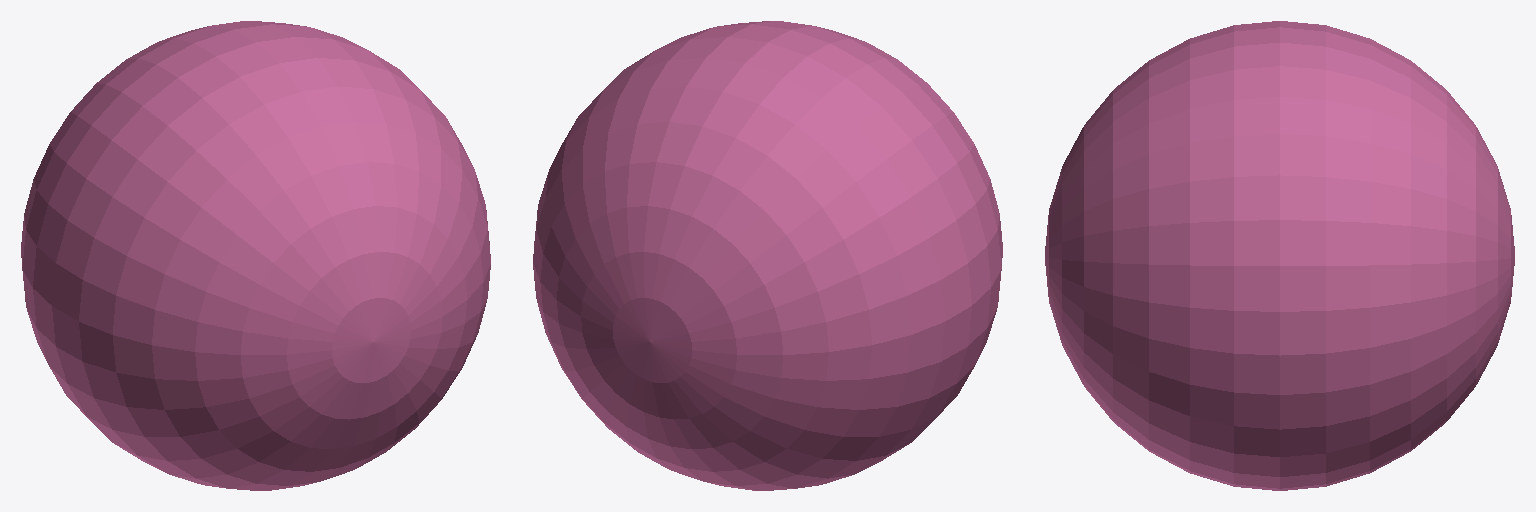
The robot description file, URDF, robot "robot":
<?xml version="1.0" ?>
<!-- =================================================================================== -->
<!-- |    This document was autogenerated by xacro from ./description/ur3e_single.urdf.xacro | -->
<!-- |    EDITING THIS FILE BY HAND IS NOT RECOMMENDED                                 | -->
<!-- =================================================================================== -->
<robot name="robot">
  <material name="collision_env_mesh">
    <color rgba="0.5019607843137255 0.5019607843137255 0.5019607843137255 1.0"/>
  </material>
  <!-- robot_common -->
  <link name="robot_common"/>
  <joint name="world_joint" type="fixed">
    <parent link="robot_common"/>
    <child link="base_link"/>
    <origin rpy="0.0 0 0.0" xyz="0.0 -0.15 0.0"/>
  </joint>
  <!--
    Base UR robot series xacro macro.

    NOTE: this is NOT a URDF. It cannot directly be loaded by consumers
    expecting a flattened '.urdf' file. See the top-level '.xacro' for that
    (but note: that .xacro must still be processed by the xacro command).

    For use in '.launch' files: use one of the 'load_urX.launch' convenience
    launch files.

    This file models the base kinematic chain of a UR robot, which then gets
    parameterised by various configuration files to convert it into a UR3(e),
    UR5(e), UR10(e) or UR16e.

    NOTE: the default kinematic parameters (ie: link lengths, frame locations,
    offets, etc) do not correspond to any particular robot. They are defaults
    only. There WILL be non-zero offsets between the Forward Kinematics results
    in TF (ie: robot_state_publisher) and the values reported by the Teach
    Pendant.

    For accurate (and robot-specific) transforms, the 'kinematics_parameters_file'
    parameter MUST point to a .yaml file containing the appropriate values for
    the targetted robot.

    If using the UniversalRobots/Universal_Robots_ROS_Driver, follow the steps
    described in the readme of that repository to extract the kinematic
    calibration from the controller and generate the required .yaml file.

    Main author of the migration to yaml configs: [author].

    Contributors to previous versions (in no particular order):

     - [author]
     - [author]
     - [author]
     - [author]
     - [author]
     - [author]
     - [author]
     - [author]
     - [author]
     - [author]
     - [author]
     - [author]
     - [author]
     - [author]
     - [author]
     - [author]
     - [author]
  -->
  <!--
    NOTE: the macro defined in this file is NOT part of the public API of this
          package. Users CANNOT rely on this file being available, or stored in
          this location. Nor can they rely on the existence of the macro.
  -->
  <transmission name="shoulder_pan_trans">
    <type>transmission_interface/SimpleTransmission</type>
    <joint name="shoulder_pan_joint">
      <hardwareInterface>hardware_interface/PositionJointInterface</hardwareInterface>
    </joint>
    <actuator name="shoulder_pan_motor">
      <mechanicalReduction>1</mechanicalReduction>
    </actuator>
  </transmission>
  <transmission name="shoulder_lift_trans">
    <type>transmission_interface/SimpleTransmission</type>
    <joint name="shoulder_lift_joint">
      <hardwareInterface>hardware_interface/PositionJointInterface</hardwareInterface>
    </joint>
    <actuator name="shoulder_lift_motor">
      <mechanicalReduction>1</mechanicalReduction>
    </actuator>
  </transmission>
  <transmission name="elbow_trans">
    <type>transmission_interface/SimpleTransmission</type>
    <joint name="elbow_joint">
      <hardwareInterface>hardware_interface/PositionJointInterface</hardwareInterface>
    </joint>
    <actuator name="elbow_motor">
      <mechanicalReduction>1</mechanicalReduction>
    </actuator>
  </transmission>
  <transmission name="wrist_1_trans">
    <type>transmission_interface/SimpleTransmission</type>
    <joint name="wrist_1_joint">
      <hardwareInterface>hardware_interface/PositionJointInterface</hardwareInterface>
    </joint>
    <actuator name="wrist_1_motor">
      <mechanicalReduction>1</mechanicalReduction>
    </actuator>
  </transmission>
  <transmission name="wrist_2_trans">
    <type>transmission_interface/SimpleTransmission</type>
    <joint name="wrist_2_joint">
      <hardwareInterface>hardware_interface/PositionJointInterface</hardwareInterface>
    </joint>
    <actuator name="wrist_2_motor">
      <mechanicalReduction>1</mechanicalReduction>
    </actuator>
  </transmission>
  <transmission name="wrist_3_trans">
    <type>transmission_interface/SimpleTransmission</type>
    <joint name="wrist_3_joint">
      <hardwareInterface>hardware_interface/PositionJointInterface</hardwareInterface>
    </joint>
    <actuator name="wrist_3_motor">
      <mechanicalReduction>1</mechanicalReduction>
    </actuator>
  </transmission>
  <!-- links: main serial chain -->
  <link name="base_link"/>
  <link name="base_link_inertia">
    <collision>
      <origin rpy="0 0 3.141592653589793" xyz="0 0 0"/>
      <geometry>
        <mesh filename="./robot/collision/base.stl"/>
      </geometry>
      <material name="LightGrey">
        <color rgba="0.7 0.7 0.7 1.0"/>
      </material>
    </collision>
    <inertial>
            <mass value="0"/>
            <origin rpy="0 0 0" xyz="0 0 0"/>
            <inertia ixx="0" ixy="0.0" ixz="0.0" iyy="0" iyz="0" izz="0"/>
        </inertial>
  </link>
  <link name="shoulder_link">
    <collision>
      <origin rpy="0 0 3.141592653589793" xyz="0 0 0"/>
      <geometry>
        <mesh filename="./robot/collision/shoulder.stl"/>
      </geometry>
      <material name="LightGrey">
        <color rgba="0.7 0.7 0.7 1.0"/>
      </material>
    </collision>
    <inertial>
            <mass value="0"/>
            <origin rpy="0 0 0" xyz="0 0 0"/>
            <inertia ixx="0" ixy="0.0" ixz="0.0" iyy="0" iyz="0" izz="0"/>
        </inertial>
  </link>
  <link name="upper_arm_link">
    <collision>
      <origin rpy="1.5707963267948966 0 -1.5707963267948966" xyz="0 0 0.12"/>
      <geometry>
        <mesh filename="./robot/collision/upperarm.stl"/>
      </geometry>
      <material name="LightGrey">
        <color rgba="0.7 0.7 0.7 1.0"/>
      </material>
    </collision>
    <inertial>
            <mass value="0"/>
            <origin rpy="0 0 0" xyz="0 0 0"/>
            <inertia ixx="0" ixy="0.0" ixz="0.0" iyy="0" iyz="0" izz="0"/>
        </inertial>
  </link>
  <link name="forearm_link">
    <collision>
      <origin rpy="1.5707963267948966 0 -1.5707963267948966" xyz="0 0 0.027"/>
      <geometry>
        <mesh filename="./robot/collision/forearm.stl"/>
      </geometry>
      <material name="LightGrey">
        <color rgba="0.7 0.7 0.7 1.0"/>
      </material>
    </collision>
    <inertial>
            <mass value="0"/>
            <origin rpy="0 0 0" xyz="0 0 0"/>
            <inertia ixx="0" ixy="0.0" ixz="0.0" iyy="0" iyz="0" izz="0"/>
        </inertial>
  </link>
  <link name="wrist_1_link">
    <collision>
      <!-- TODO: Move this to a parameter -->
      <origin rpy="1.5707963267948966 0 0" xyz="0 0 -0.104"/>
      <geometry>
        <mesh filename="./robot/collision/wrist1.stl"/>
      </geometry>
      <material name="LightGrey">
        <color rgba="0.7 0.7 0.7 1.0"/>
      </material>
    </collision>
    <inertial>
            <mass value="0"/>
            <origin rpy="0 0 0" xyz="0 0 0"/>
            <inertia ixx="0" ixy="0.0" ixz="0.0" iyy="0" iyz="0" izz="0"/>
        </inertial>
  </link>
  <link name="wrist_2_link">
    <collision>
      <origin rpy="0 0 0" xyz="0 0 -0.08535"/>
      <geometry>
        <mesh filename="./robot/collision/wrist2.stl"/>
      </geometry>
      <material name="LightGrey">
        <color rgba="0.7 0.7 0.7 1.0"/>
      </material>
    </collision>
    <inertial>
            <mass value="0"/>
            <origin rpy="0 0 0" xyz="0 0 0"/>
            <inertia ixx="0" ixy="0.0" ixz="0.0" iyy="0" iyz="0" izz="0"/>
        </inertial>
  </link>
  <link name="wrist_3_link">
    <collision>
      <origin rpy="1.5707963267948966 0 0" xyz="0 0 -0.0921"/>
      <geometry>
        <mesh filename="./robot/collision/wrist3.stl"/>
      </geometry>
      <material name="LightGrey">
        <color rgba="0.7 0.7 0.7 1.0"/>
      </material>
    </collision>
    <inertial>
            <mass value="0"/>
            <origin rpy="0 0 0" xyz="0 0 0"/>
            <inertia ixx="0" ixy="0.0" ixz="0.0" iyy="0" iyz="0" izz="0"/>
        </inertial>
  </link>
  <!-- joints: main serial chain -->
  <joint name="base_link-base_link_inertia" type="fixed">
    <parent link="base_link"/>
    <child link="base_link_inertia"/>
    <!-- 'base_link' is REP-103 aligned (so X+ forward), while the internal
           frames of the robot/controller have X+ pointing backwards.
           Use the joint between 'base_link' and 'base_link_inertia' (a dummy
           link/frame) to introduce the necessary rotation over Z (of pi rad).
      -->
    <origin rpy="0 0 3.141592653589793" xyz="0 0 0"/>
  </joint>
  <joint name="shoulder_pan_joint" type="revolute">
    <parent link="base_link_inertia"/>
    <child link="shoulder_link"/>
    <origin rpy="0 0 0" xyz="0 0 0.15185"/>
    <axis xyz="0 0 1"/>
    <limit effort="56.0" lower="-6.283185307179586" upper="6.283185307179586" velocity="3.141592653589793"/>
    <dynamics damping="0" friction="0"/>
  </joint>
  <joint name="shoulder_lift_joint" type="revolute">
    <parent link="shoulder_link"/>
    <child link="upper_arm_link"/>
    <origin rpy="1.570796327 0 0" xyz="0 0 0"/>
    <axis xyz="0 0 1"/>
    <limit effort="56.0" lower="-6.283185307179586" upper="6.283185307179586" velocity="3.141592653589793"/>
    <dynamics damping="0" friction="0"/>
  </joint>
  <joint name="elbow_joint" type="revolute">
    <parent link="upper_arm_link"/>
    <child link="forearm_link"/>
    <origin rpy="0 0 0" xyz="-0.24355 0 0"/>
    <axis xyz="0 0 1"/>
    <limit effort="28.0" lower="-3.141592653589793" upper="3.141592653589793" velocity="3.141592653589793"/>
    <dynamics damping="0" friction="0"/>
  </joint>
  <joint name="wrist_1_joint" type="revolute">
    <parent link="forearm_link"/>
    <child link="wrist_1_link"/>
    <origin rpy="0 0 0" xyz="-0.2132 0 0.13105"/>
    <axis xyz="0 0 1"/>
    <limit effort="12.0" lower="-6.283185307179586" upper="6.283185307179586" velocity="6.283185307179586"/>
    <dynamics damping="0" friction="0"/>
  </joint>
  <joint name="wrist_2_joint" type="revolute">
    <parent link="wrist_1_link"/>
    <child link="wrist_2_link"/>
    <origin rpy="1.570796327 0 0" xyz="0 -0.08535 -1.750557762378351e-11"/>
    <axis xyz="0 0 1"/>
    <limit effort="12.0" lower="-6.283185307179586" upper="6.283185307179586" velocity="6.283185307179586"/>
    <dynamics damping="0" friction="0"/>
  </joint>
  <joint name="wrist_3_joint" type="revolute">
    <parent link="wrist_2_link"/>
    <child link="wrist_3_link"/>
    <origin rpy="1.570796326589793 3.141592653589793 3.141592653589793" xyz="0 0.0921 -1.8890025766262e-11"/>
    <axis xyz="0 0 1"/>
    <limit effort="12.0" lower="-6.283185307179586" upper="6.283185307179586" velocity="6.283185307179586"/>
    <dynamics damping="0" friction="0"/>
  </joint>
  <!-- ROS-Industrial 'base' frame: base_link to UR 'Base' Coordinates transform -->
  <link name="base"/>
  <joint name="base_link-base_fixed_joint" type="fixed">
    <!-- Note the rotation over Z of pi radians: as base_link is REP-103
           aligned (ie: has X+ forward, Y+ left and Z+ up), this is needed
           to correctly align 'base' with the 'Base' coordinate system of
           the UR controller.
      -->
    <origin rpy="0 0 3.141592653589793" xyz="0 0 0"/>
    <parent link="base_link"/>
    <child link="base"/>
  </joint>
  <!-- ROS-Industrial 'flange' frame: attachment point for EEF models -->
  <link name="flange"/>
  <joint name="wrist_3-flange" type="fixed">
    <parent link="wrist_3_link"/>
    <child link="flange"/>
    <origin rpy="0 -1.5707963267948966 -1.5707963267948966" xyz="0 0 0"/>
  </joint>
  <!-- ROS-Industrial 'tool0' frame: all-zeros tool frame -->
  <link name="tool0"/>
  <joint name="flange-tool0" type="fixed">
    <!-- default toolframe: X+ left, Y+ up, Z+ front -->
    <origin rpy="1.5707963267948966 0 1.5707963267948966" xyz="0 0 0"/>
    <parent link="flange"/>
    <child link="tool0"/>
  </joint>
  <joint name="robotiq_85_base_joint" type="fixed">
    <parent link="tool0"/>
    <child link="robotiq_85_base_link"/>
    <origin rpy="1.570795 -1.570795 0" xyz="0 0 0"/>
  </joint>
  <link name="robotiq_85_base_link">
    <collision>
      <geometry>
        <mesh filename="./robot/collision/robotiq_85_base_link.stl"/>
      </geometry>
    </collision>
    <inertial>
            <mass value="0"/>
            <origin rpy="0 0 0" xyz="0 0 0"/>
            <inertia ixx="0" ixy="0.0" ixz="0.0" iyy="0" iyz="0" izz="0"/>
        </inertial>
  </link>
  <joint name="robotiq_85_left_knuckle_joint" type="revolute">
    <parent link="robotiq_85_base_link"/>
    <child link="robotiq_85_left_knuckle_link"/>
    <axis xyz="0 0 1"/>
    <origin rpy="3.14159 0.0 0.0" xyz="0.05490451627 0.03060114443 0.0"/>
    <limit effort="1000" lower="0.0" upper="0.804" velocity="2.0"/>
  </joint>
  <joint name="robotiq_85_right_knuckle_joint" type="continuous">
    <parent link="robotiq_85_base_link"/>
    <child link="robotiq_85_right_knuckle_link"/>
    <axis xyz="0 0 1"/>
    <origin rpy="0.0 0.0 0.0" xyz="0.05490451627 -0.03060114443 0.0"/>
    <limit effort="1000" lower="-3.14" upper="3.14" velocity="100.0"/>
    <mimic joint="robotiq_85_left_knuckle_joint"/>
  </joint>
  <link name="robotiq_85_left_knuckle_link">
    <collision>
      <geometry>
        <mesh filename="./robot/collision/robotiq_85_knuckle_link.stl"/>
      </geometry>
    </collision>
    <inertial>
            <mass value="0"/>
            <origin rpy="0 0 0" xyz="0 0 0"/>
            <inertia ixx="0" ixy="0.0" ixz="0.0" iyy="0" iyz="0" izz="0"/>
        </inertial>
  </link>
  <link name="robotiq_85_right_knuckle_link">
    <collision>
      <geometry>
        <mesh filename="./robot/collision/robotiq_85_knuckle_link.stl"/>
      </geometry>
    </collision>
    <inertial>
            <mass value="0"/>
            <origin rpy="0 0 0" xyz="0 0 0"/>
            <inertia ixx="0" ixy="0.0" ixz="0.0" iyy="0" iyz="0" izz="0"/>
        </inertial>
  </link>
  <joint name="robotiq_85_left_finger_joint" type="continuous">
    <parent link="robotiq_85_left_knuckle_link"/>
    <child link="robotiq_85_left_finger_link"/>
    <origin rpy="0 0 0" xyz="-0.00408552455 -0.03148604435 0.0"/>
  </joint>
  <joint name="robotiq_85_right_finger_joint" type="continuous">
    <parent link="robotiq_85_right_knuckle_link"/>
    <child link="robotiq_85_right_finger_link"/>
    <origin rpy="0 0 0" xyz="-0.00408552455 -0.03148604435 0.0"/>
  </joint>
  <link name="robotiq_85_left_finger_link">
    <collision>
      <geometry>
        <mesh filename="./robot/collision/robotiq_85_finger_link.stl"/>
      </geometry>
    </collision>
    <inertial>
            <mass value="0"/>
            <origin rpy="0 0 0" xyz="0 0 0"/>
            <inertia ixx="0" ixy="0.0" ixz="0.0" iyy="0" iyz="0" izz="0"/>
        </inertial>
  </link>
  <link name="robotiq_85_right_finger_link">
    <collision>
      <geometry>
        <mesh filename="./robot/collision/robotiq_85_finger_link.stl"/>
      </geometry>
    </collision>
    <inertial>
            <mass value="0"/>
            <origin rpy="0 0 0" xyz="0 0 0"/>
            <inertia ixx="0" ixy="0.0" ixz="0.0" iyy="0" iyz="0" izz="0"/>
        </inertial>
  </link>
  <joint name="robotiq_85_left_inner_knuckle_joint" type="continuous">
    <parent link="robotiq_85_base_link"/>
    <child link="robotiq_85_left_inner_knuckle_link"/>
    <axis xyz="0 0 1"/>
    <origin rpy="3.14159 0.0 0.0" xyz="0.06142 0.0127 0"/>
    <limit effort="0.1" lower="-3.14" upper="3.14" velocity="100.0"/>
    <mimic joint="robotiq_85_left_knuckle_joint" offset="0"/>
  </joint>
  <joint name="robotiq_85_right_inner_knuckle_joint" type="continuous">
    <parent link="robotiq_85_base_link"/>
    <child link="robotiq_85_right_inner_knuckle_link"/>
    <axis xyz="0 0 1"/>
    <origin rpy="0 0 0" xyz="0.06142 -0.0127 0"/>
    <limit effort="0.1" lower="-3.14" upper="3.14" velocity="100.0"/>
    <mimic joint="robotiq_85_left_knuckle_joint" offset="0"/>
  </joint>
  <link name="robotiq_85_left_inner_knuckle_link">
    <collision>
      <geometry>
        <mesh filename="./robot/collision/robotiq_85_inner_knuckle_link.stl"/>
      </geometry>
    </collision>
    <inertial>
            <mass value="0"/>
            <origin rpy="0 0 0" xyz="0 0 0"/>
            <inertia ixx="0" ixy="0.0" ixz="0.0" iyy="0" iyz="0" izz="0"/>
        </inertial>
  </link>
  <link name="robotiq_85_right_inner_knuckle_link">
    <collision>
      <geometry>
        <mesh filename="./robot/collision/robotiq_85_inner_knuckle_link.stl"/>
      </geometry>
    </collision>
    <inertial>
            <mass value="0"/>
            <origin rpy="0 0 0" xyz="0 0 0"/>
            <inertia ixx="0" ixy="0.0" ixz="0.0" iyy="0" iyz="0" izz="0"/>
        </inertial>
  </link>
  <joint name="robotiq_85_left_finger_tip_joint" type="continuous">
    <parent link="robotiq_85_left_inner_knuckle_link"/>
    <child link="robotiq_85_left_finger_tip_link"/>
    <axis xyz="0 0 1"/>
    <origin rpy="0.0 0.0 0.0" xyz="0.04303959807 -0.03759940821 0.0"/>
    <limit effort="0.1" lower="-3.14" upper="3.14" velocity="100.0"/>
    <mimic joint="robotiq_85_left_knuckle_joint" multiplier="-1"/>
  </joint>
  <joint name="robotiq_85_right_finger_tip_joint" type="continuous">
    <parent link="robotiq_85_right_inner_knuckle_link"/>
    <child link="robotiq_85_right_finger_tip_link"/>
    <axis xyz="0 0 1"/>
    <origin rpy="0.0 0.0 0.0" xyz="0.04303959807 -0.03759940821  0.0"/>
    <limit effort="0.1" lower="-3.14" upper="3.14" velocity="100.0"/>
    <mimic joint="robotiq_85_left_knuckle_joint" multiplier="-1"/>
  </joint>
  <link name="robotiq_85_left_finger_tip_link">
    <collision>
      <geometry>
        <mesh filename="./robot/collision/robotiq_85_finger_tip_link.stl"/>
      </geometry>
    </collision>
    <inertial>
            <mass value="0"/>
            <origin rpy="0 0 0" xyz="0 0 0"/>
            <inertia ixx="0" ixy="0.0" ixz="0.0" iyy="0" iyz="0" izz="0"/>
        </inertial>
  </link>
  <link name="robotiq_85_right_finger_tip_link">
    <collision>
      <geometry>
        <mesh filename="./robot/collision/robotiq_85_finger_tip_link.stl"/>
      </geometry>
    </collision>
    <inertial>
            <mass value="0"/>
            <origin rpy="0 0 0" xyz="0 0 0"/>
            <inertia ixx="0" ixy="0.0" ixz="0.0" iyy="0" iyz="0" izz="0"/>
        </inertial>
  </link>
  <transmission name="robotiq_85_left_knuckle_trans">
    <type>transmission_interface/SimpleTransmission</type>
    <joint name="robotiq_85_left_knuckle_joint">
      <hardwareInterface>PositionJointInterface</hardwareInterface>
    </joint>
    <actuator name="robotiq_85_left_knuckle_motor">
      <mechanicalReduction>1</mechanicalReduction>
      <hardwareInterface>PositionJointInterface</hardwareInterface>
    </actuator>
  </transmission>
  <gazebo>
    <!-- loading plugin: mimic joints works in gazebo now -->
    <plugin filename="libroboticsgroup_gazebo_mimic_joint_plugin.so" name="mimic_robotiq_85_1">
      <joint>robotiq_85_left_knuckle_joint</joint>
      <mimicJoint>robotiq_85_right_knuckle_joint</mimicJoint>
      <!--multiplier>1.0</multiplier>
                <offset>0.0</offset-->
    </plugin>
    <plugin filename="libroboticsgroup_gazebo_mimic_joint_plugin.so" name="mimic_robotiq_85_2">
      <joint>robotiq_85_left_knuckle_joint</joint>
      <mimicJoint>robotiq_85_left_inner_knuckle_joint</mimicJoint>
      <!--multiplier>1.0</multiplier>
                <offset>0.0</offset-->
    </plugin>
    <plugin filename="libroboticsgroup_gazebo_mimic_joint_plugin.so" name="mimic_robotiq_85_3">
      <joint>robotiq_85_left_knuckle_joint</joint>
      <mimicJoint>robotiq_85_right_inner_knuckle_joint</mimicJoint>
      <!--multiplier>1.0</multiplier>
                <offset>0.0</offset-->
    </plugin>
    <plugin filename="libroboticsgroup_gazebo_mimic_joint_plugin.so" name="mimic_robotiq_85_4">
      <joint>robotiq_85_left_knuckle_joint</joint>
      <mimicJoint>robotiq_85_left_finger_tip_joint</mimicJoint>
      <!--multiplier>-1.0</multiplier-->
      <!--offset>0.0</offset-->
    </plugin>
    <plugin filename="libroboticsgroup_gazebo_mimic_joint_plugin.so" name="mimic_robotiq_85_5">
      <joint>robotiq_85_left_knuckle_joint</joint>
      <mimicJoint>robotiq_85_right_finger_tip_joint</mimicJoint>
      <!--multiplier>-1.0</multiplier-->
      <!--offset>0.0</offset-->
    </plugin>
  </gazebo>
  <!-- Robot Pedestal -->
  <link name="ur3e_pedestal_link" type="fixed">
    <collision>
      <origin rpy="0 0 0" xyz="0 0 0"/>
      <geometry>
        <mesh filename="./environment/collision/pedestal.stl"/>
      </geometry>
      <material name="collision_env_mesh"/>
    </collision>
    <inertial>
            <mass value="0"/>
            <origin rpy="0 0 0" xyz="0 0 0"/>
            <inertia ixx="0" ixy="0.0" ixz="0.0" iyy="0" iyz="0" izz="0"/>
        </inertial>
  </link>
  <joint name="robot_common_ur3e_pedestal_joint" type="fixed">
    <parent link="robot_common"/>
    <child link="ur3e_pedestal_link"/>
    <origin rpy="0.0 0 0" xyz="0.0 -0.15 -0.38"/>
  </joint>

  <link name="tool0_endpoint" type="fixed">
    <visual>
      <origin rpy="0 0 0" xyz="0 0 0"/>
      <geometry>
        <sphere radius="0.025"/>
      </geometry>
    </visual>
  </link>
  <joint name="tool0_to_tool0_endpoint" type="fixed">
    <parent link="tool0"/>
    <child link="tool0_endpoint"/>
    <origin rpy="0.0 0 0" xyz="0.0 0.0 0.15"/>
  </joint>
</robot>

--- What the picture shows (computed from the rendered views, not written in the file) ---
Views: 3 orthographic renders of the robot side by side, from view 1: azimuth 30°, elevation 25°; view 2: azimuth 150°, elevation 25°; view 3: azimuth 270°, elevation 25°.
Robot: robot — 23 links, 22 joints (7 revolute, 7 continuous, 8 fixed); root link robot_common; default pose: all joints at 0.
Links seen in each view (by area): view 1: tool0_endpoint; view 2: tool0_endpoint; view 3: tool0_endpoint.
Boxes of the visible links, bbox=[...] form: tool0_endpoint: bbox=[21, 21, 490, 490]; tool0_endpoint: bbox=[533, 21, 1002, 490]; tool0_endpoint: bbox=[1045, 21, 1514, 490].
Bounding box of the posed robot: 0.05 × 0.05 × 0.05 m (x, y, z).
Geometry: primitives only (box / cylinder / sphere), no mesh files.